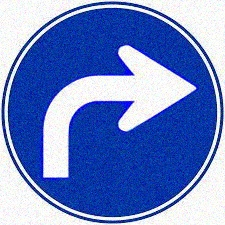Direction_sign: (1, 2, 224, 223)
